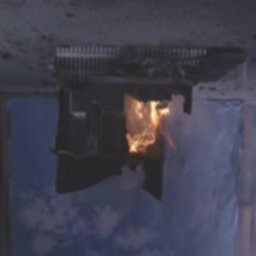fire: (122, 90, 179, 169)
